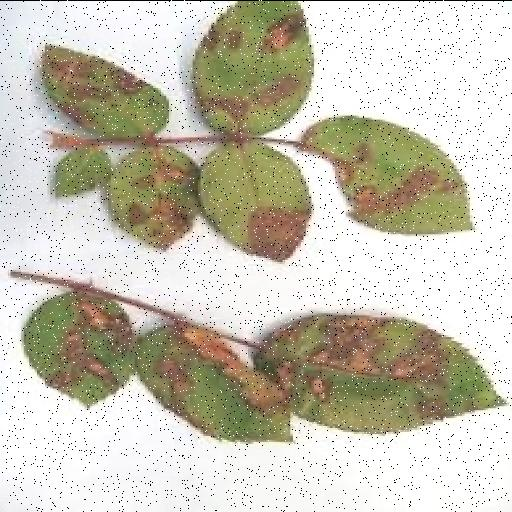downy_mildew: (256, 315, 504, 430), (304, 115, 472, 233), (138, 327, 290, 440), (193, 1, 311, 132), (201, 143, 311, 260), (24, 291, 134, 405), (43, 46, 168, 136), (106, 147, 197, 249), (53, 147, 110, 195)
